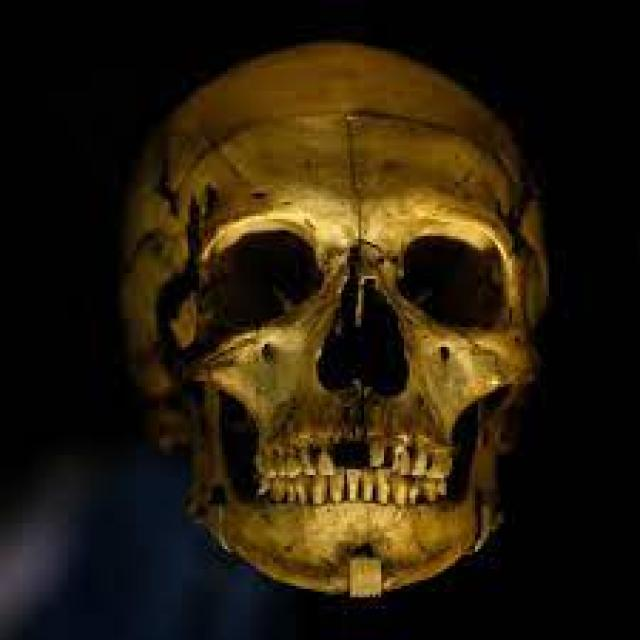skull: (98, 20, 562, 610)
